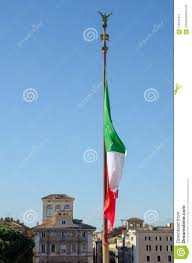Flag: (102, 78, 131, 238)
